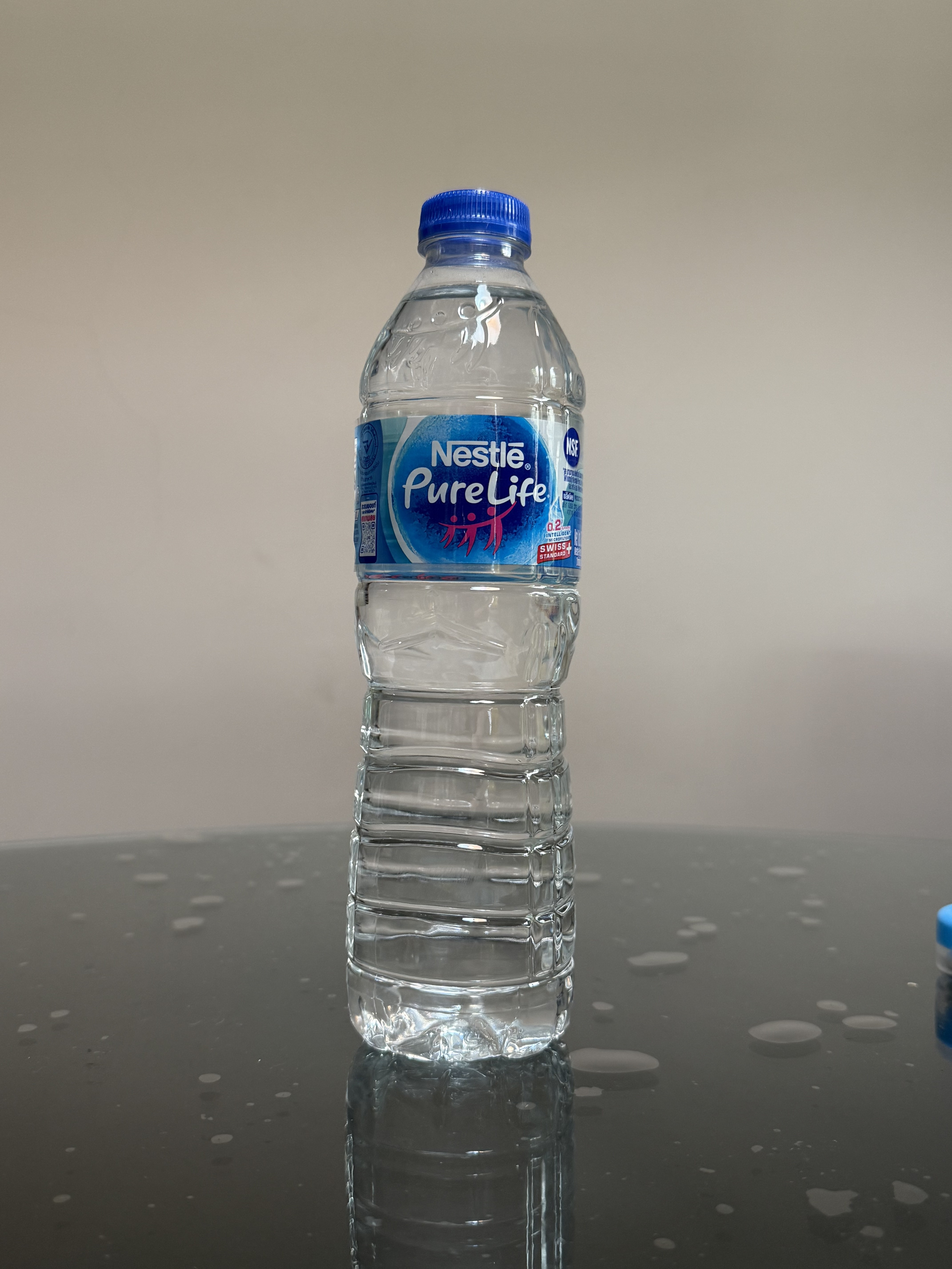closed_cap: (417, 185, 534, 259)
